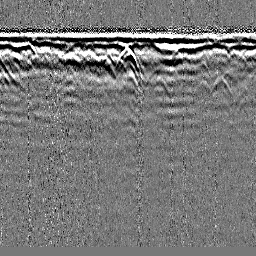cavity: (115, 45, 139, 71)
